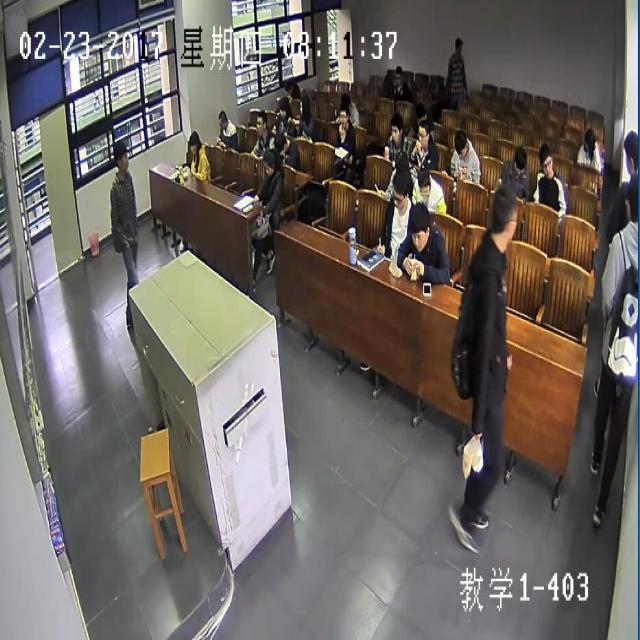person: (493, 189, 519, 244), (410, 208, 430, 252), (625, 177, 638, 228), (623, 128, 638, 172), (392, 172, 406, 211), (540, 147, 553, 178), (114, 142, 127, 170), (390, 115, 402, 142), (454, 131, 466, 157), (417, 121, 429, 146), (417, 172, 429, 196), (514, 148, 525, 174), (299, 97, 310, 122), (263, 151, 274, 175), (584, 126, 594, 150), (255, 114, 265, 135), (339, 105, 348, 126), (188, 134, 198, 152), (342, 92, 351, 110), (218, 109, 226, 129), (276, 134, 286, 150), (279, 98, 287, 118), (416, 102, 424, 119), (454, 37, 462, 54), (394, 64, 401, 82), (284, 77, 292, 92)
